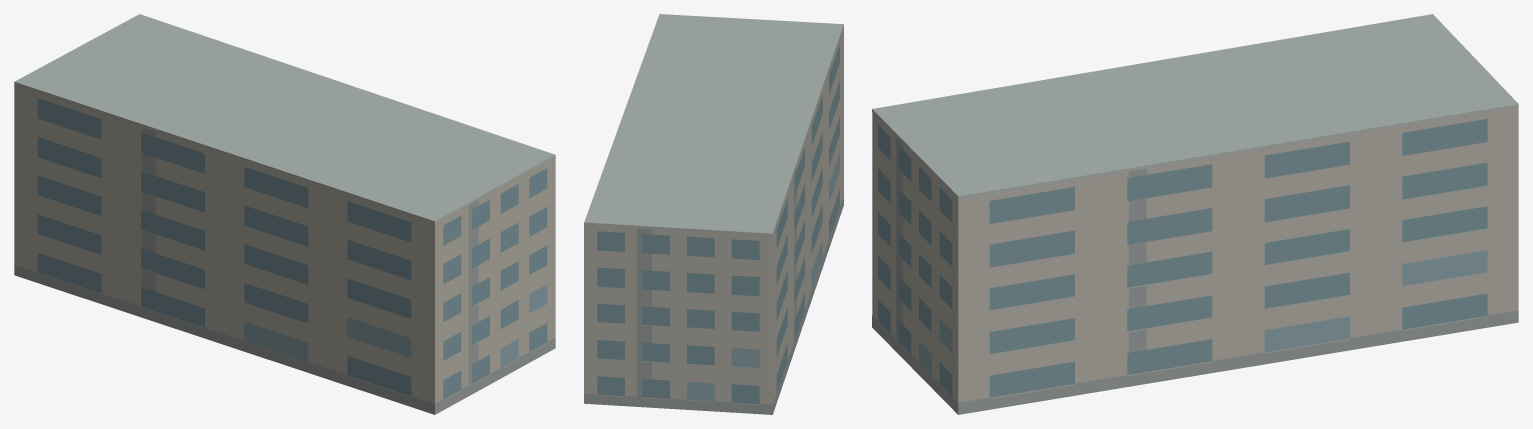
Rendered from residential-f0b7fa70-8f32-48af-9ade-f9eb95262c01.glb.
3 views of the same model, side by side, from view 1: azimuth 30°, elevation 25°; view 2: azimuth 150°, elevation 25°; view 3: azimuth 270°, elevation 25° (orthographic). The views are drawn at different scales.
Parts seen in each view (by area): view 1: residential-f0b7fa70-8f32-48af-9ade-f9eb95262c01.tmp; view 2: residential-f0b7fa70-8f32-48af-9ade-f9eb95262c01.tmp; view 3: residential-f0b7fa70-8f32-48af-9ade-f9eb95262c01.tmp.
Boxes of the visible parts, <box> form: residential-f0b7fa70-8f32-48af-9ade-f9eb95262c01.tmp: <box>14,14,555,414</box>; residential-f0b7fa70-8f32-48af-9ade-f9eb95262c01.tmp: <box>584,14,843,414</box>; residential-f0b7fa70-8f32-48af-9ade-f9eb95262c01.tmp: <box>872,14,1518,414</box>.
Size of the model in its own units: 27.31 by 15.25 by 40.9.
